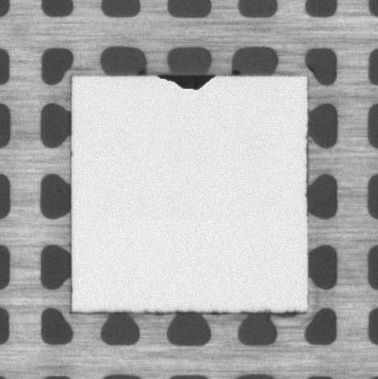DIE_BROKEN: (152, 73, 219, 90)
